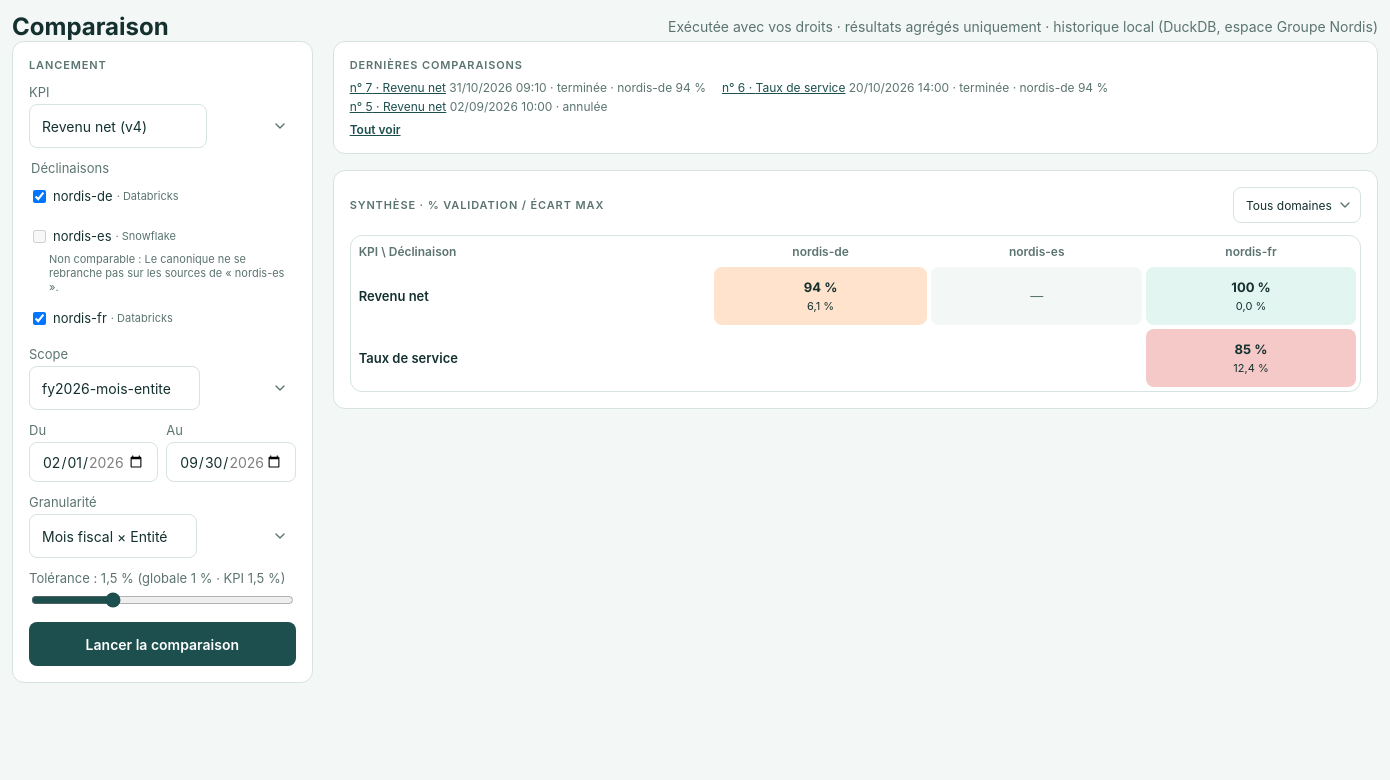
Scenario: comparaison › détail d'une cellule : hors tolérance, valeur exacte au survol, nœud divergent (critères 2 et 6)
Click the link named "Revenu net × nordis-de": (888, 296) [804, 278, 972, 313]
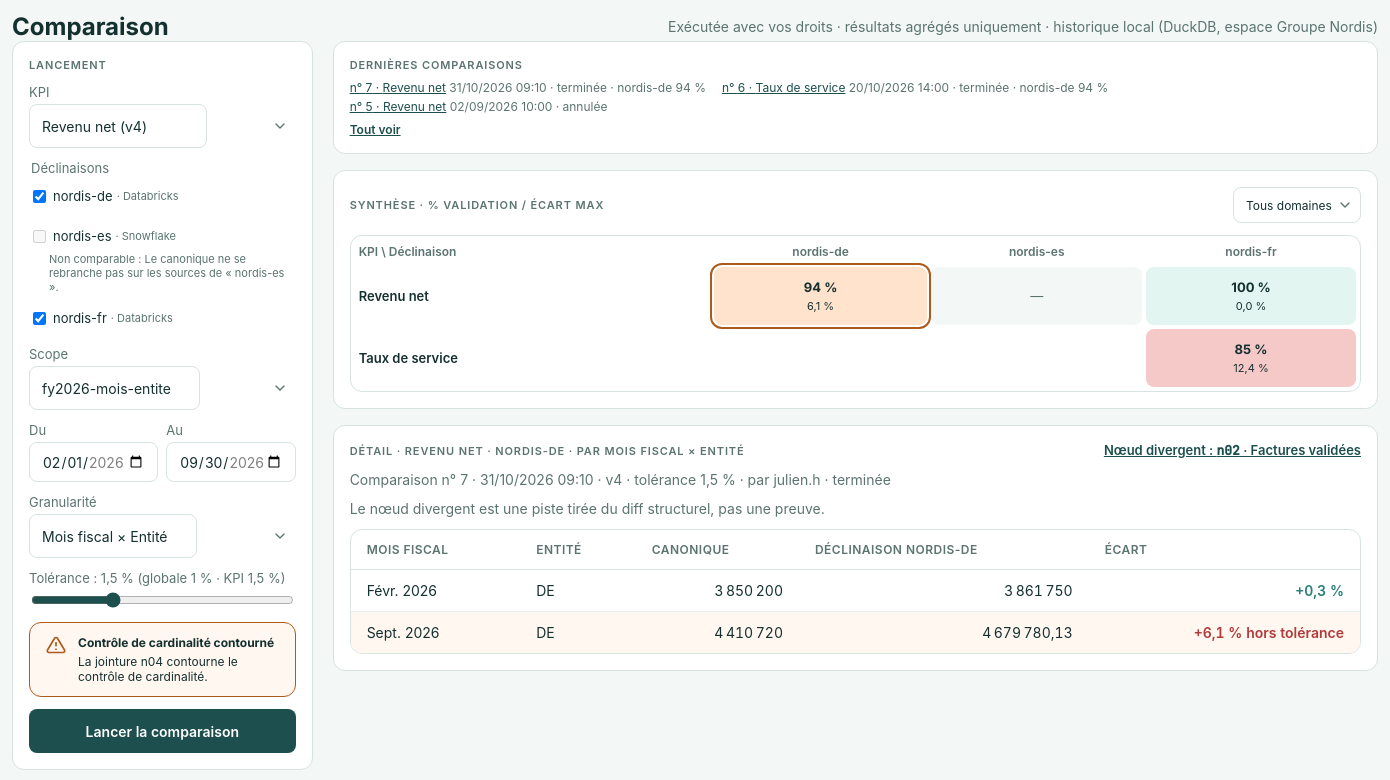
expect the row "Sept. 2026 DE 4 410 720 4 679 780,13 +6,1 % hors tolérance" is shown: met, box [351, 612, 1360, 653]
expect the text titled "4679780.125" reads "4 679 780,13": met, box [982, 624, 1073, 641]
